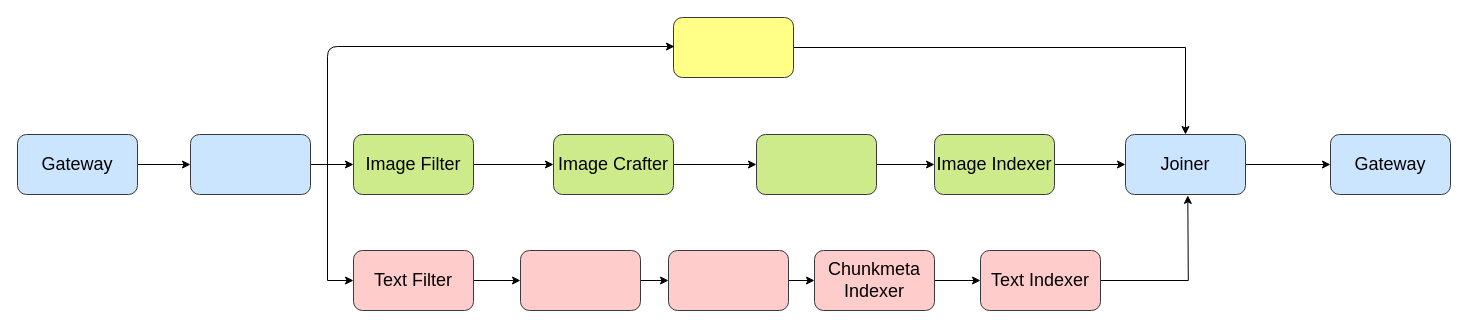
The diagram is 1468 pixels wide and 328 high, and some of its shapes have lost their labels. The box of each missing label's shape, as (x1, y1, x2, y2) in pixels:
Doc Indexer: (672, 16, 794, 78)
Image Encoder: (756, 134, 876, 194)
PDF Segmenter: (190, 134, 310, 194)
Text Encoder: (668, 250, 788, 310)
Text Segmenter: (520, 250, 640, 310)
